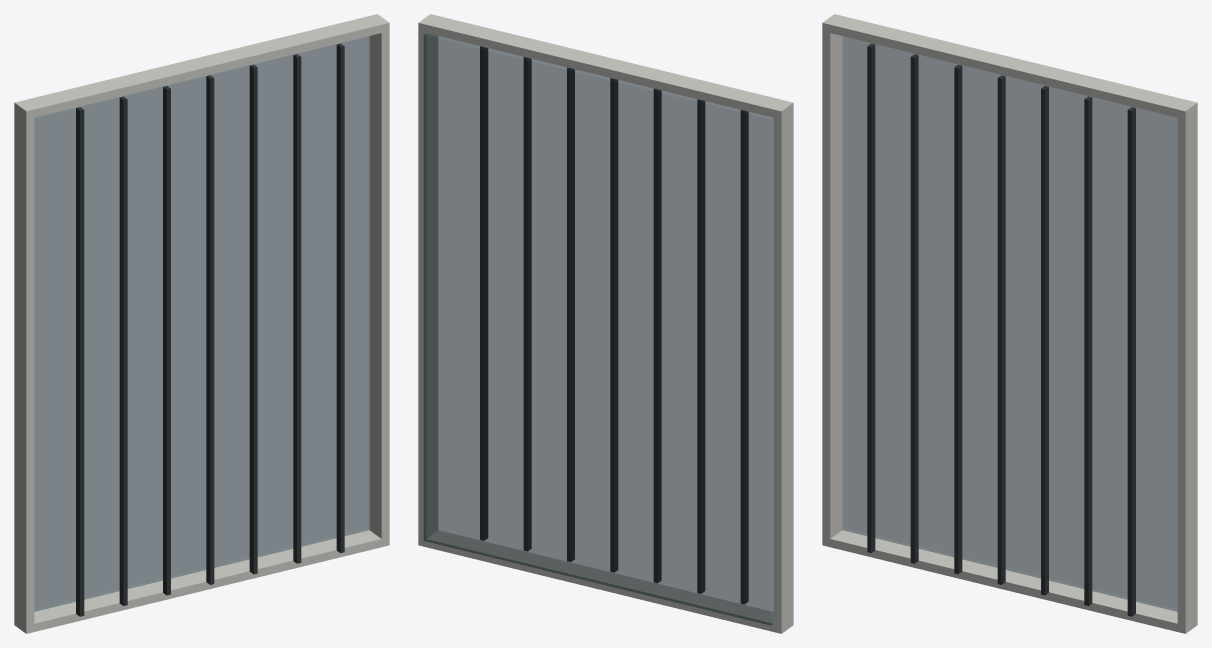
File: moderno_rectangle_con_reja.glb
The picture shows the model from 3 angles, left to right: view 1: azimuth 30°, elevation 25°; view 2: azimuth 150°, elevation 25°; view 3: azimuth 330°, elevation 25°; orthographic projection.
Parts seen in each view (by area): view 1: window_glass#0001, window_reveal#0001, window_grille#0001; view 2: window_glass#0001, window_reveal#0001, window_grille#0001; view 3: window_glass#0001, window_reveal#0001, window_grille#0001.
Boxes of the visible parts, x1=… form: window_glass#0001: x1=34, y1=36, x2=369, y2=611; window_reveal#0001: x1=14, y1=14, x2=389, y2=633; window_grille#0001: x1=76, y1=43, x2=344, y2=616; window_glass#0001: x1=423, y1=33, x2=773, y2=625; window_reveal#0001: x1=418, y1=14, x2=793, y2=633; window_grille#0001: x1=480, y1=46, x2=748, y2=603; window_glass#0001: x1=842, y1=36, x2=1177, y2=611; window_reveal#0001: x1=822, y1=14, x2=1197, y2=633; window_grille#0001: x1=867, y1=43, x2=1135, y2=616.
Bounding box in the file's own units: 1.6 × 2.2 × 0.145.
